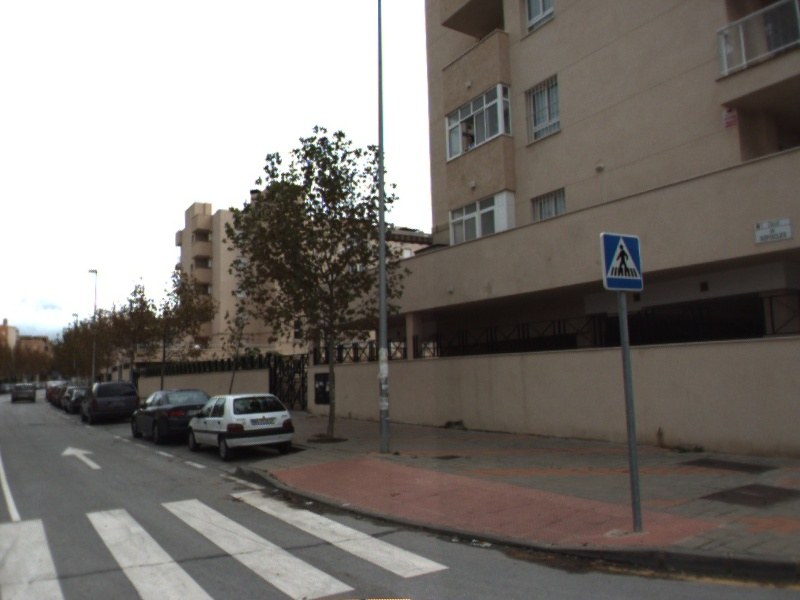STRAIGHT: (59, 444, 104, 471)
